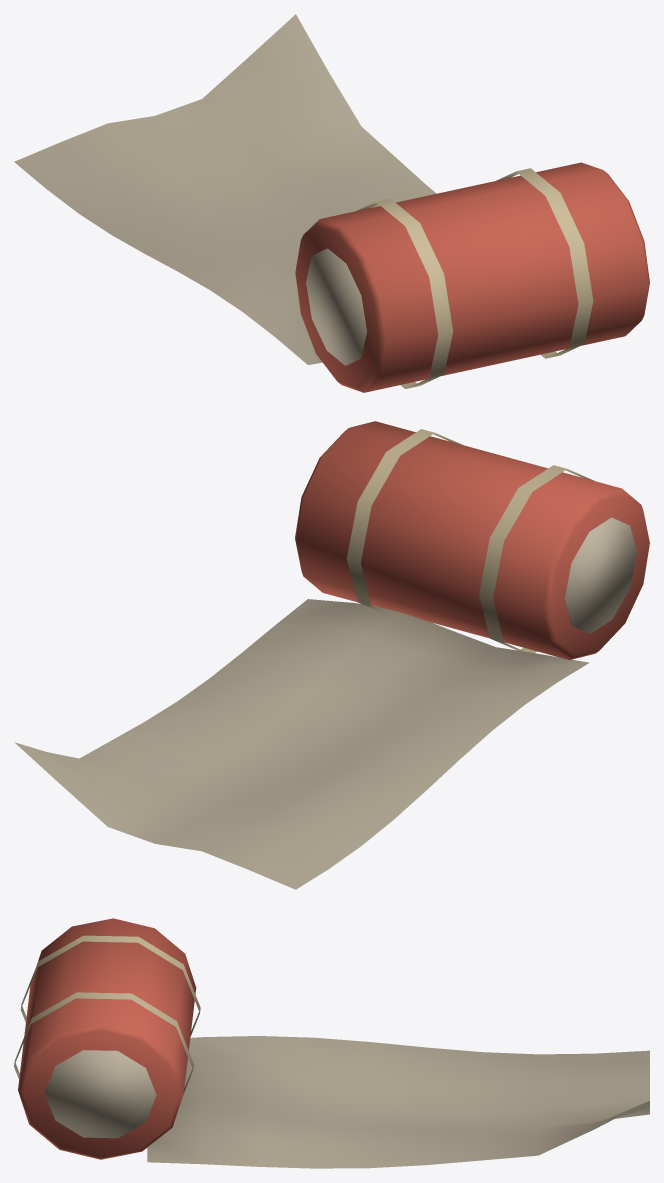
File: bedroll.ce2d14e8.glb
3 views of the same model, one above another, from view 1: azimuth 30°, elevation 25°; view 2: azimuth 150°, elevation 25°; view 3: azimuth 270°, elevation 25° (orthographic). The views are drawn at different scales.
Visible parts, largest first — view 1: bedroll; view 2: bedroll; view 3: bedroll.
Boxes of the visible parts, <box> form: bedroll: <box>14,14,649,392</box>; bedroll: <box>14,421,649,889</box>; bedroll: <box>14,918,649,1168</box>.
Size of the model in its own units: 0.62 by 0.3562 by 1.42.
